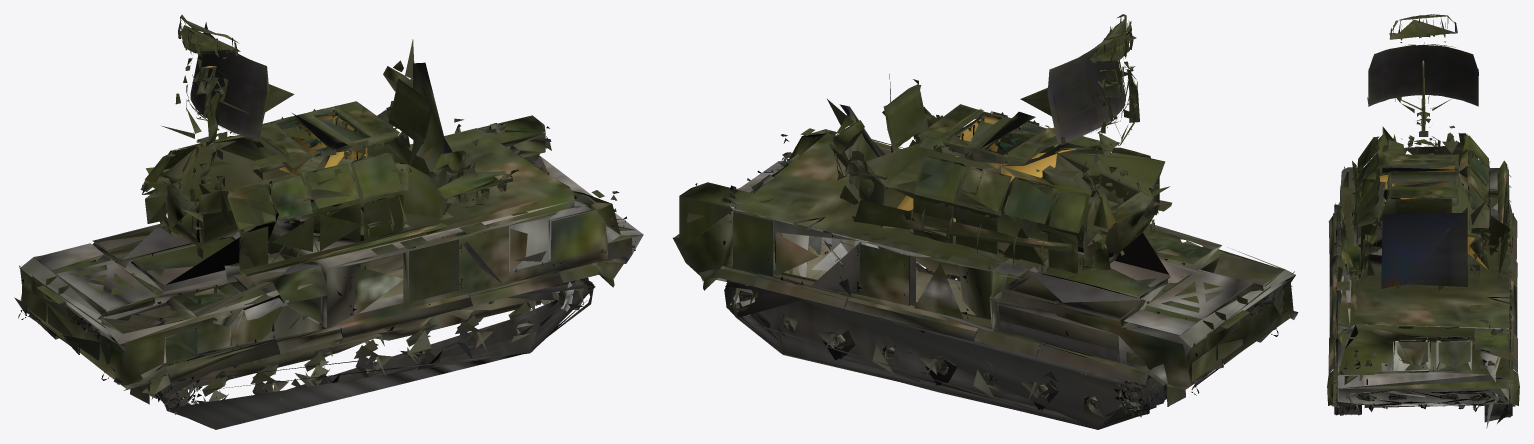
The picture shows the model from 3 angles, left to right: view 1: azimuth 30°, elevation 25°; view 2: azimuth 150°, elevation 25°; view 3: azimuth 270°, elevation 25°; orthographic projection. The views are drawn at different scales.
Parts seen in each view (by area): view 1: g_hq17_hull, g_hq17_turret; view 2: g_hq17_hull, g_hq17_turret; view 3: g_hq17_hull, g_hq17_turret.
Part boxes in pixels (box(x1,y1,x2,y2)): g_hq17_hull: box(14, 115, 643, 429); g_hq17_turret: box(140, 14, 520, 276); g_hq17_hull: box(673, 128, 1298, 429); g_hq17_turret: box(827, 14, 1171, 273); g_hq17_hull: box(1327, 166, 1519, 428); g_hq17_turret: box(1339, 14, 1511, 289).
Bounding box in the file's own units: 6.88 × 4.38 × 2.65.
2 materials, 2 textured.
